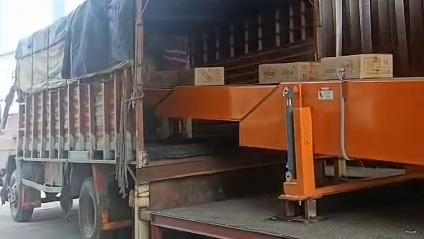box: (320, 54, 392, 79), (145, 67, 224, 87), (258, 62, 318, 83)
